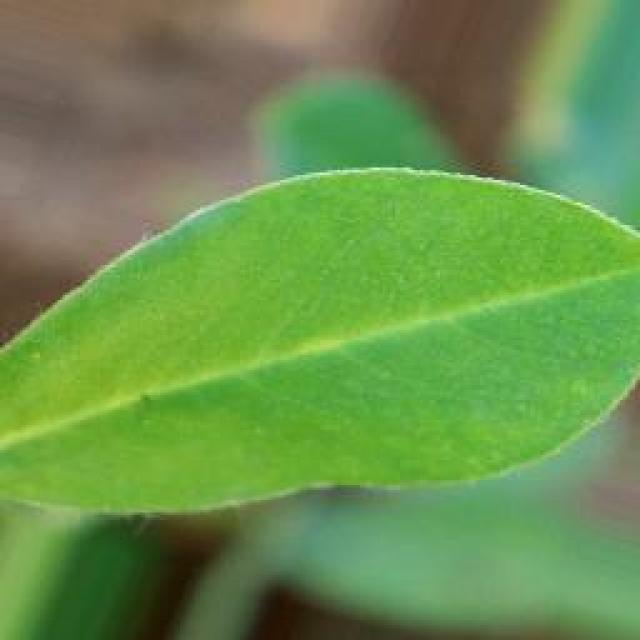Yellow_and_black_sigatoka: (0, 175, 640, 501)
